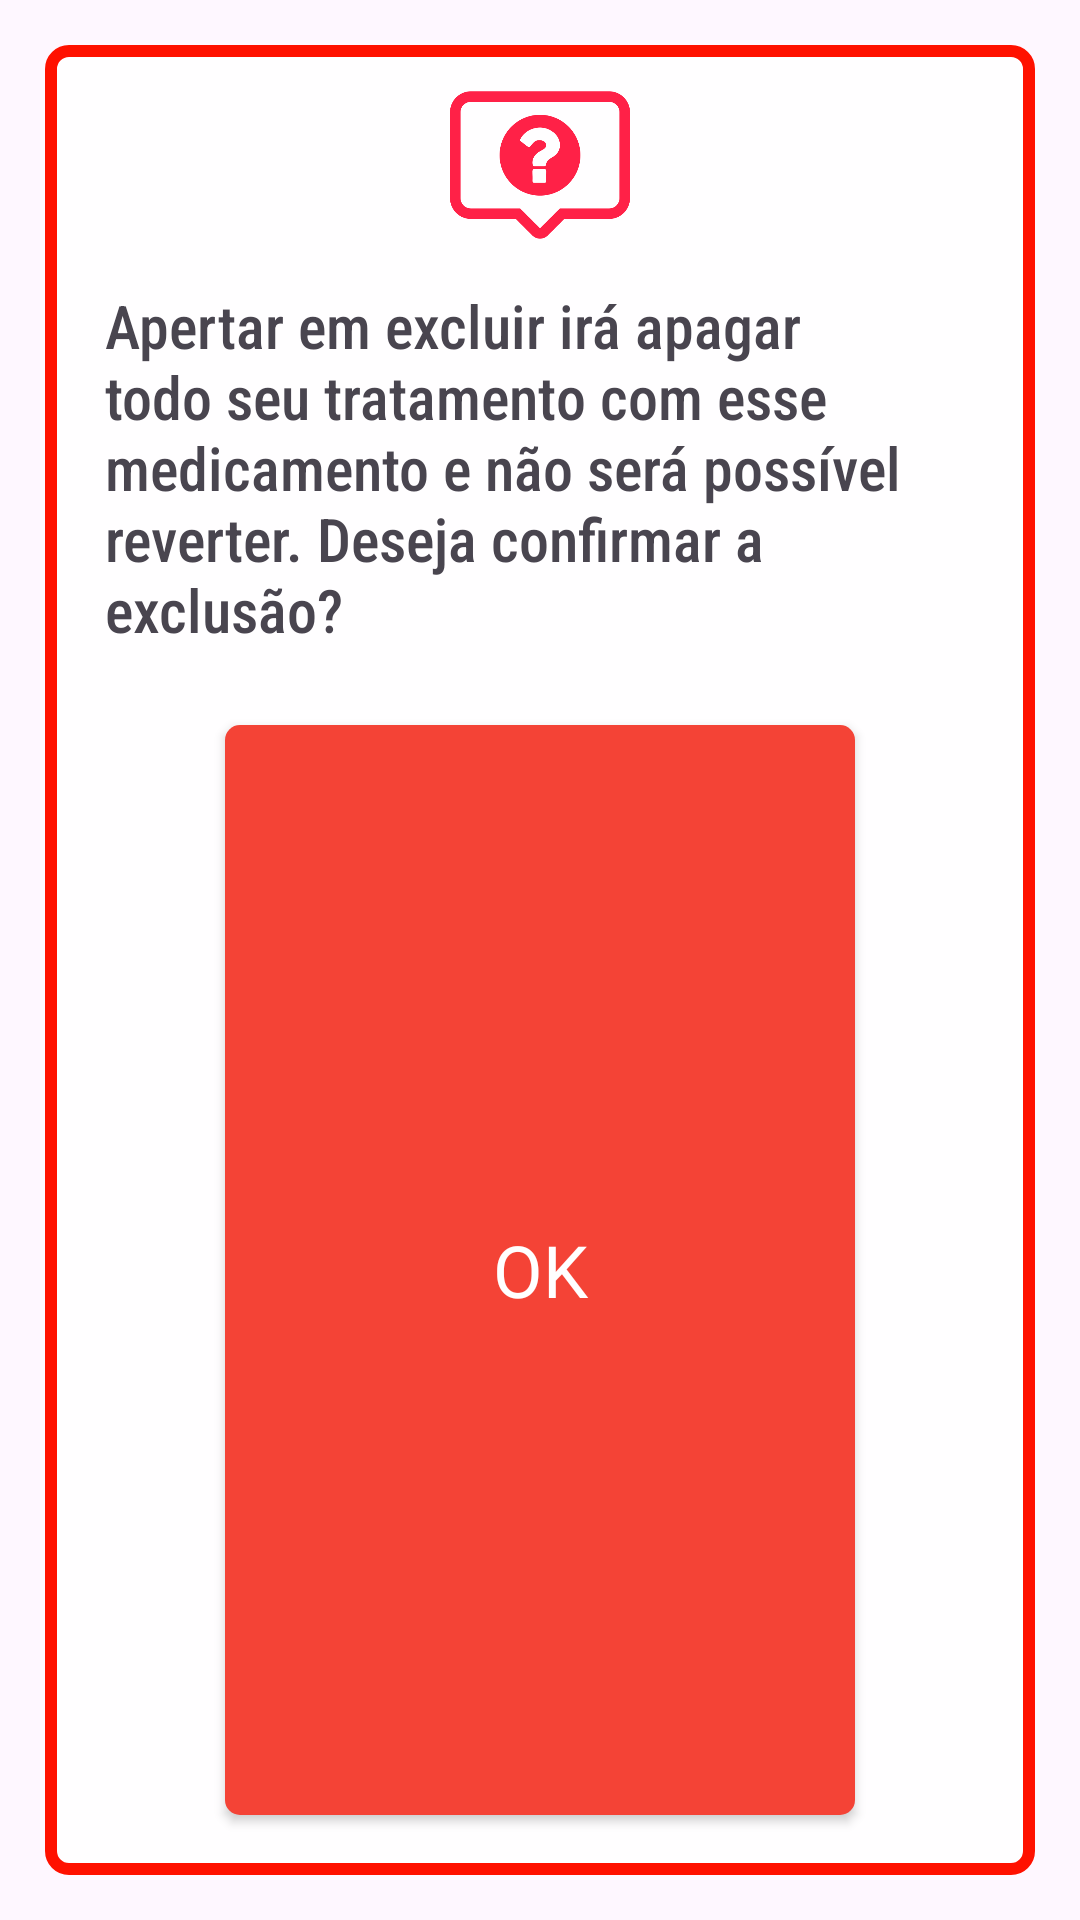

Screen size 1080 × 1920. Icon name, then its center in pixels as (x=x, y=y):
ponto de interrogacao: (x=540, y=165)
